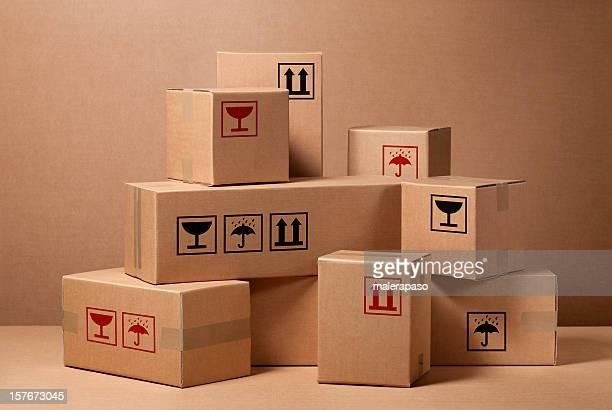Box: (126, 177, 400, 283), (63, 268, 250, 387), (318, 250, 430, 387), (218, 51, 323, 178), (432, 268, 557, 369), (167, 90, 289, 185), (402, 176, 526, 250), (349, 126, 451, 179)
